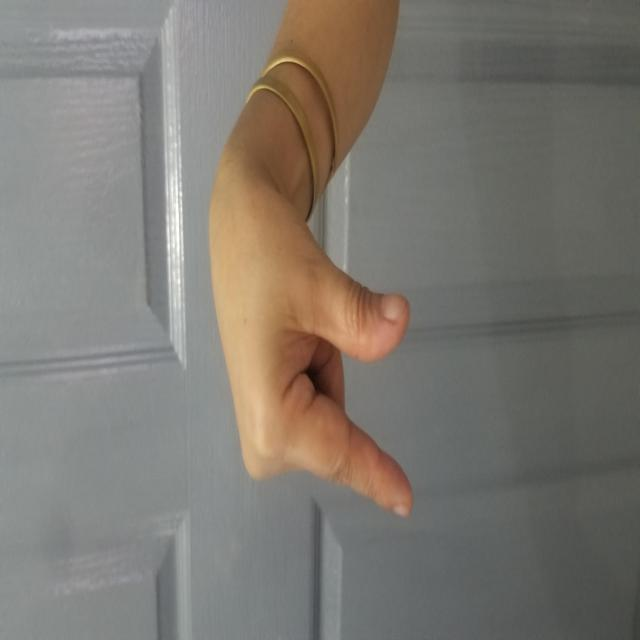Q: (119, 206, 481, 548)
